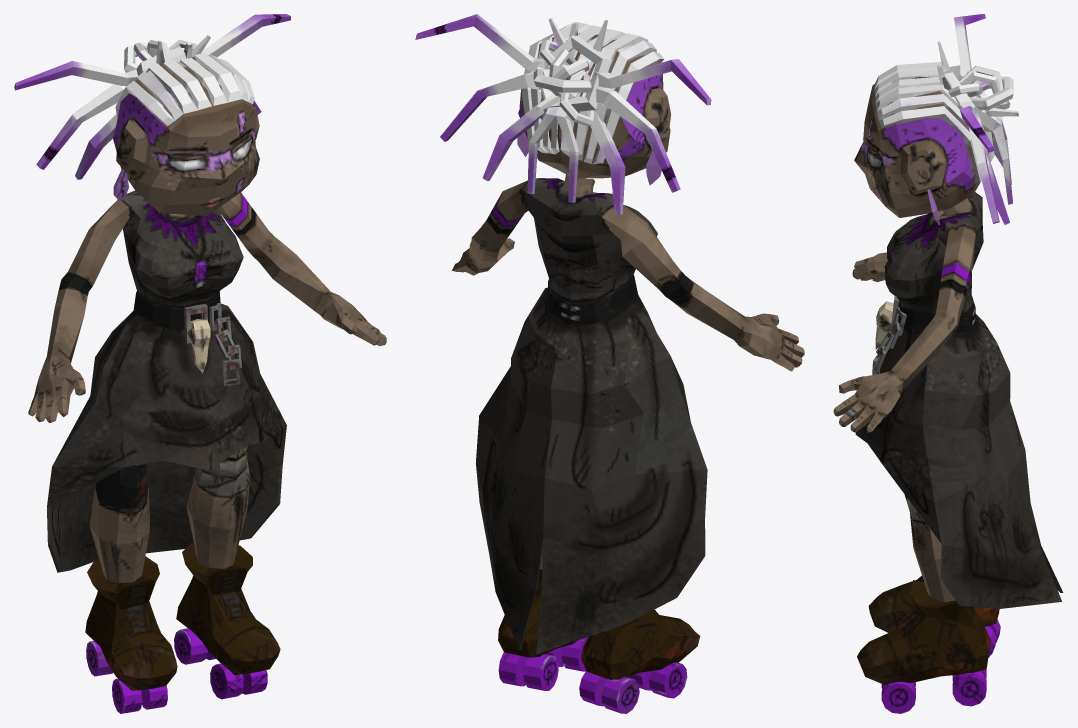
Rendered from bruja_000230.obj.
3 renders of one model, left to right at view 1: azimuth 30°, elevation 25°; view 2: azimuth 150°, elevation 25°; view 3: azimuth 270°, elevation 25°, orthographic. The views are drawn at different scales.
Visible parts, largest first — view 1: Bruja_Plane.001; view 2: Bruja_Plane.001; view 3: Bruja_Plane.001.
Part boxes in pixels (x1=…): Bruja_Plane.001: x1=14, y1=14, x2=386, y2=713; Bruja_Plane.001: x1=415, y1=14, x2=804, y2=713; Bruja_Plane.001: x1=833, y1=14, x2=1063, y2=713.
Size of the model in its own units: 9.08 by 16.67 by 5.47.
